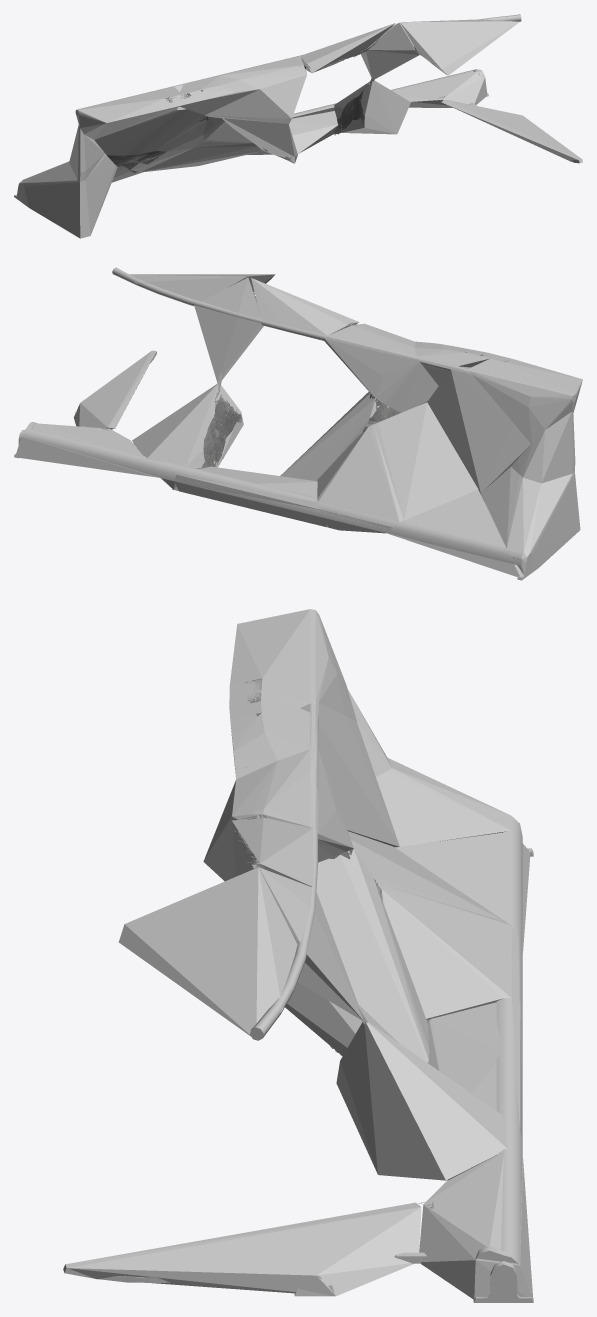
File: deco_store_awning_torn_4x1.fbx
The picture shows the model from 3 angles, top to bottom: view 1: azimuth 30°, elevation 25°; view 2: azimuth 150°, elevation 25°; view 3: azimuth 270°, elevation 25°; orthographic projection. The views are drawn at different scales.
Visible parts, largest first — view 1: deco_store_awning_torn_4x1_ConvexHulls, deco_store_awning_torn_4x1; view 2: deco_store_awning_torn_4x1_ConvexHulls, deco_store_awning_torn_4x1; view 3: deco_store_awning_torn_4x1_ConvexHulls, deco_store_awning_torn_4x1.
Boxes of the visible parts, left/top/right/bottom form: deco_store_awning_torn_4x1_ConvexHulls: left=16, top=19, right=581, bottom=238; deco_store_awning_torn_4x1: left=14, top=14, right=582, bottom=207; deco_store_awning_torn_4x1_ConvexHulls: left=16, top=274, right=582, bottom=576; deco_store_awning_torn_4x1: left=14, top=267, right=575, bottom=580; deco_store_awning_torn_4x1_ConvexHulls: left=66, top=609, right=532, bottom=1299; deco_store_awning_torn_4x1: left=63, top=678, right=533, bottom=1302.
Bounding box in the file's own units: 610 × 270 × 188.
